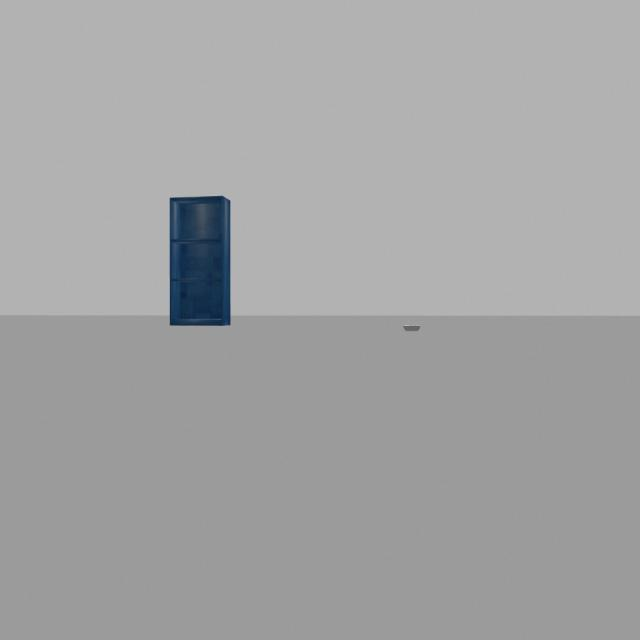bowl: (398, 321, 426, 338)
shelf: (162, 178, 240, 346)
